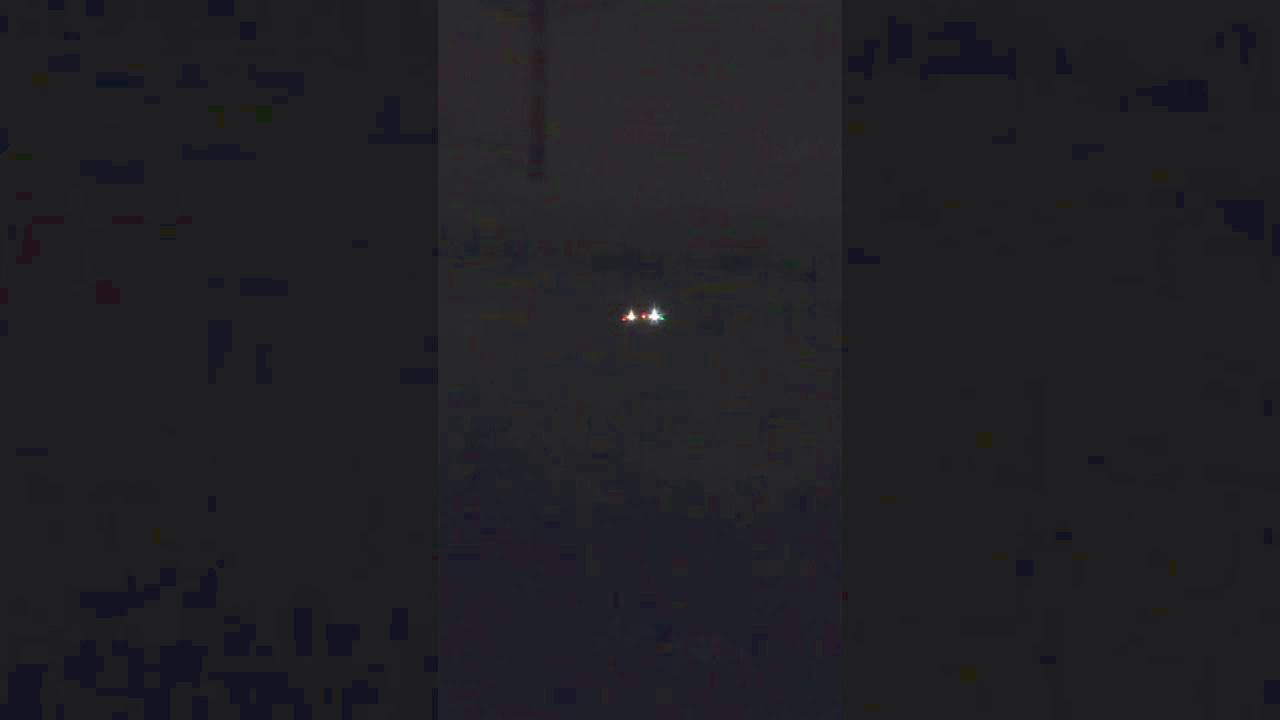Plane: (584, 290, 700, 344)
